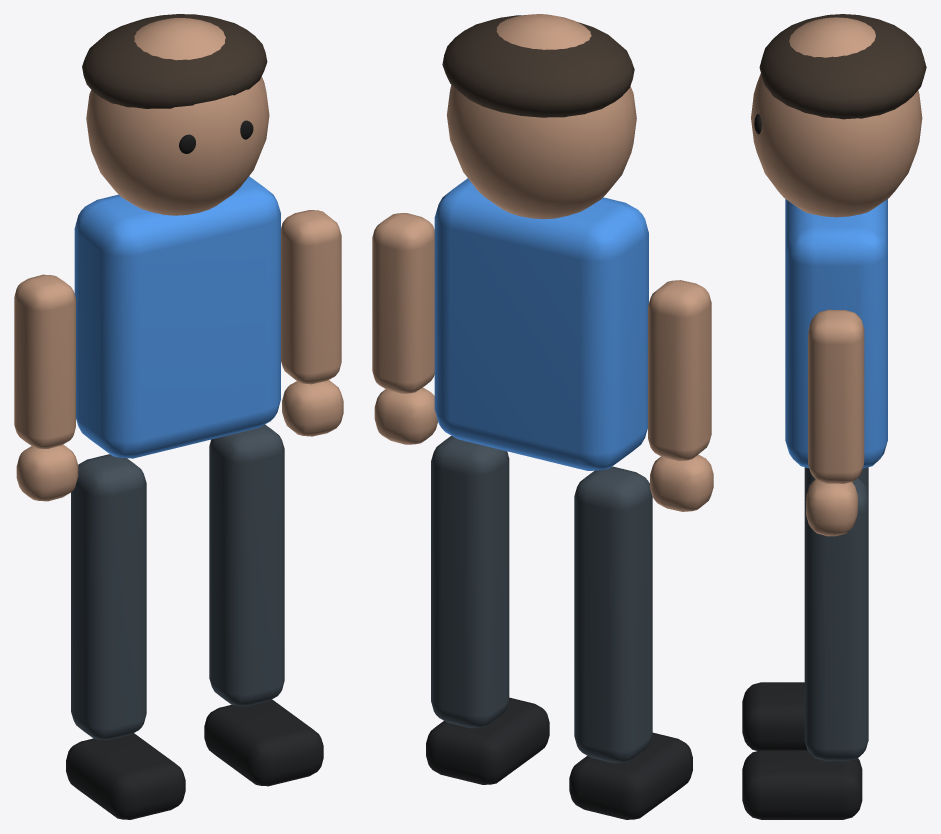
Rendered from cartoon_citizen_male.glb.
3 views of the same model, side by side, from view 1: azimuth 30°, elevation 25°; view 2: azimuth 150°, elevation 25°; view 3: azimuth 270°, elevation 25° (orthographic). The views are drawn at different scales.
Visible parts, largest first — view 1: citizen_male_torso, citizen_male_leg_L, citizen_male_leg_R, citizen_male_head, citizen_male_hair_cap, citizen_male_upper_arm_L, citizen_male_upper_arm_R, citizen_male_foot_mesh_R, citizen_male_foot_mesh_L, citizen_male_hand_L.001, citizen_male_hand_R.001; view 2: citizen_male_torso, citizen_male_leg_L, citizen_male_leg_R, citizen_male_head, citizen_male_hair_cap, citizen_male_upper_arm_L, citizen_male_upper_arm_R, citizen_male_foot_mesh_L, citizen_male_foot_mesh_R, citizen_male_hand_L.001, citizen_male_hand_R.001; view 3: citizen_male_head, citizen_male_torso, citizen_male_leg_R, citizen_male_hair_cap, citizen_male_upper_arm_R, citizen_male_foot_mesh_R, citizen_male_foot_mesh_L, citizen_male_hand_R.001.
Boxes of the visible parts, x1,y1,x2,y2 form: citizen_male_torso: (74, 176, 280, 458); citizen_male_leg_L: (71, 454, 146, 740); citizen_male_leg_R: (209, 424, 284, 706); citizen_male_head: (86, 18, 269, 215); citizen_male_hair_cap: (82, 14, 267, 108); citizen_male_upper_arm_L: (14, 274, 75, 448); citizen_male_upper_arm_R: (281, 210, 341, 384); citizen_male_foot_mesh_R: (204, 699, 323, 786); citizen_male_foot_mesh_L: (66, 733, 185, 819); citizen_male_hand_L.001: (16, 444, 78, 501); citizen_male_hand_R.001: (282, 380, 343, 436); citizen_male_torso: (434, 178, 648, 470); citizen_male_leg_L: (574, 466, 652, 763); citizen_male_leg_R: (431, 436, 509, 728); citizen_male_head: (447, 14, 636, 219); citizen_male_hair_cap: (442, 15, 634, 117); citizen_male_upper_arm_L: (648, 280, 711, 460); citizen_male_upper_arm_R: (372, 213, 434, 393); citizen_male_foot_mesh_L: (569, 732, 692, 819); citizen_male_foot_mesh_R: (426, 697, 549, 784); citizen_male_hand_L.001: (650, 454, 713, 511); citizen_male_hand_R.001: (374, 387, 437, 444); citizen_male_head: (751, 17, 922, 217); citizen_male_torso: (785, 199, 887, 468); citizen_male_leg_R: (804, 478, 868, 761); citizen_male_hair_cap: (759, 14, 926, 119); citizen_male_upper_arm_R: (808, 309, 864, 483); citizen_male_foot_mesh_R: (742, 750, 862, 819); citizen_male_foot_mesh_L: (742, 682, 807, 750); citizen_male_hand_R.001: (806, 479, 857, 536).
Bounding box in the file's own units: 0.8599 × 1.93 × 0.43.
